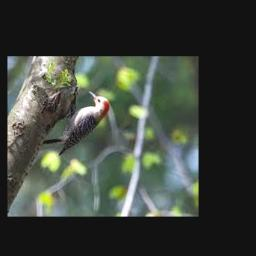Woodpecker: (42, 90, 109, 155)
